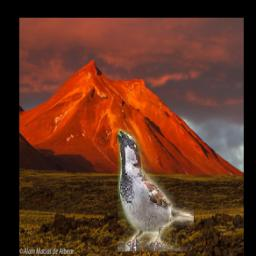Sparrow: (118, 130, 195, 252)
